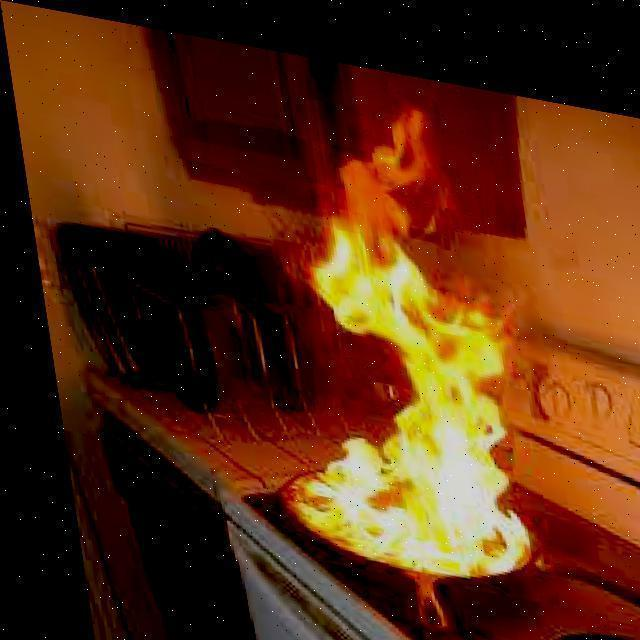Fire: (232, 79, 576, 581)
